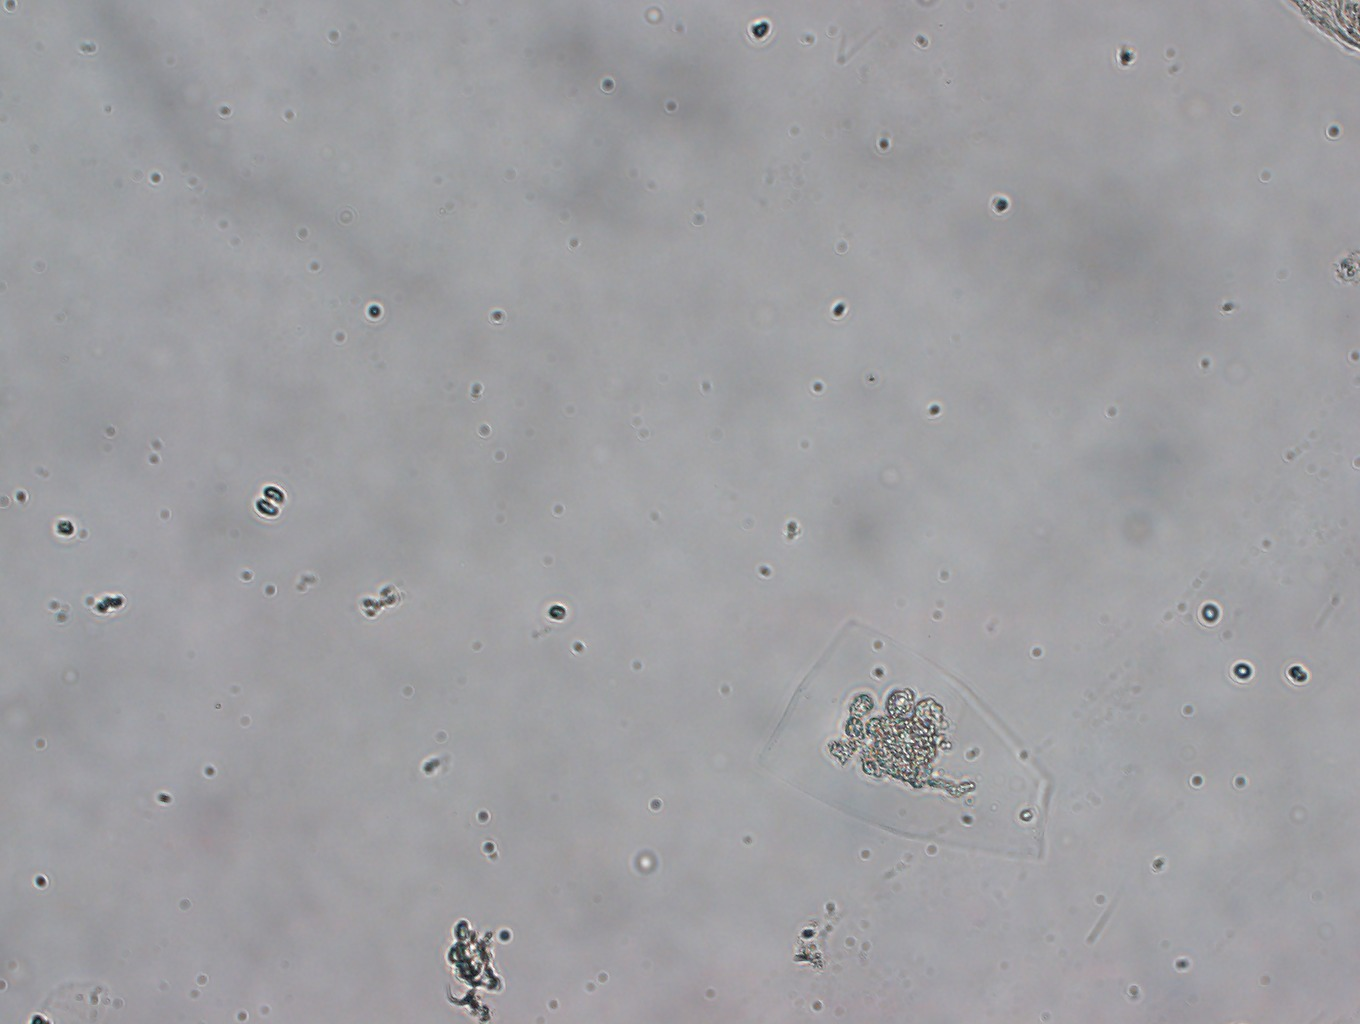helicotheca: (757, 617, 1049, 858)
